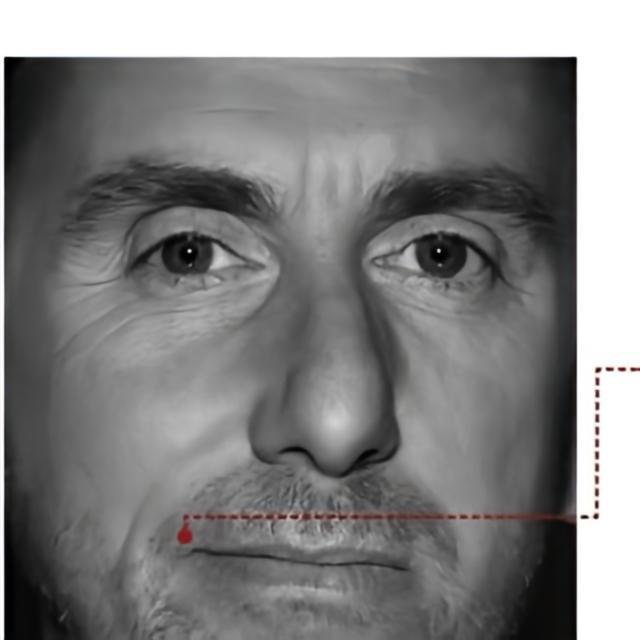content: (4, 57, 576, 640)
